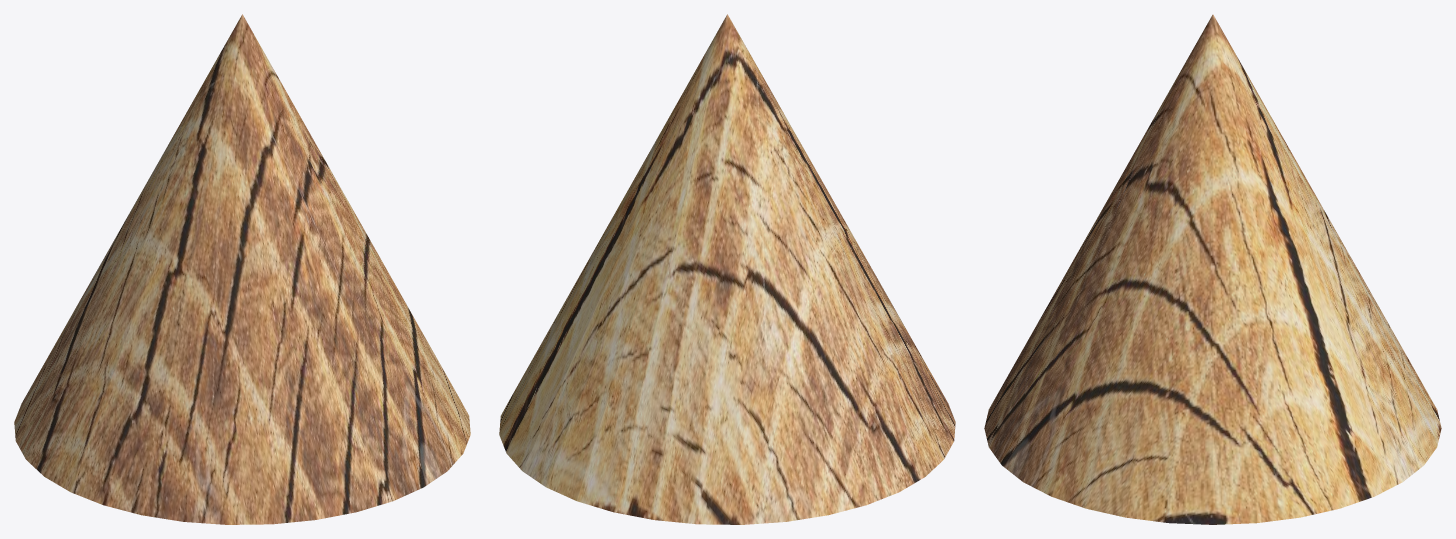
The model's file is wood_cone.obj.
3 views of the same model, side by side, from view 1: azimuth 30°, elevation 25°; view 2: azimuth 150°, elevation 25°; view 3: azimuth 270°, elevation 25° (orthographic).
Parts seen in each view (by area): view 1: Cone; view 2: Cone; view 3: Cone.
Boxes of the visible parts, left/top/right/bottom form: Cone: left=14, top=14, right=470, bottom=524; Cone: left=499, top=14, right=955, bottom=524; Cone: left=984, top=14, right=1441, bottom=524.
Size of the model in its own units: 2 by 2 by 2.
Materials: 1 (1 with a texture image).
